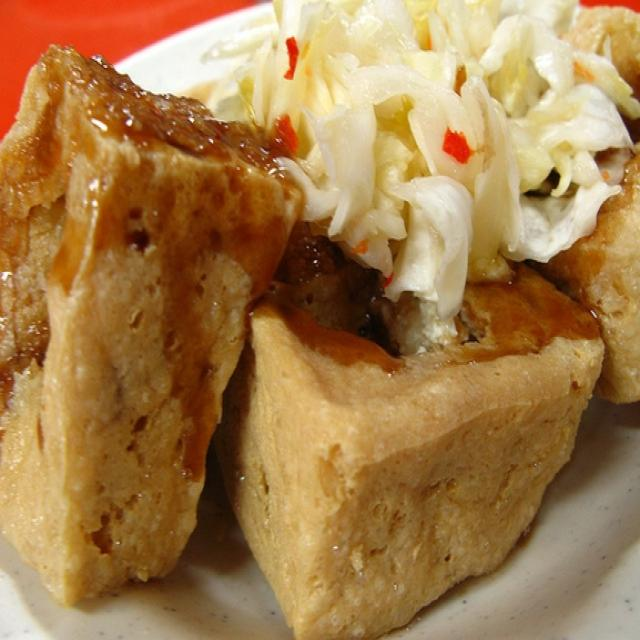豆腐料理: (11, 21, 616, 615)
